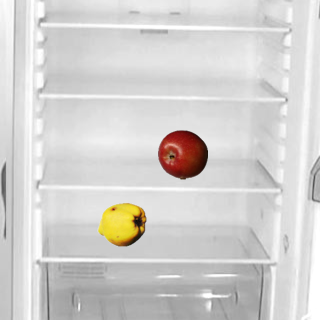Apple Braeburn: (157, 129, 207, 179)
Quince: (96, 199, 146, 249)
